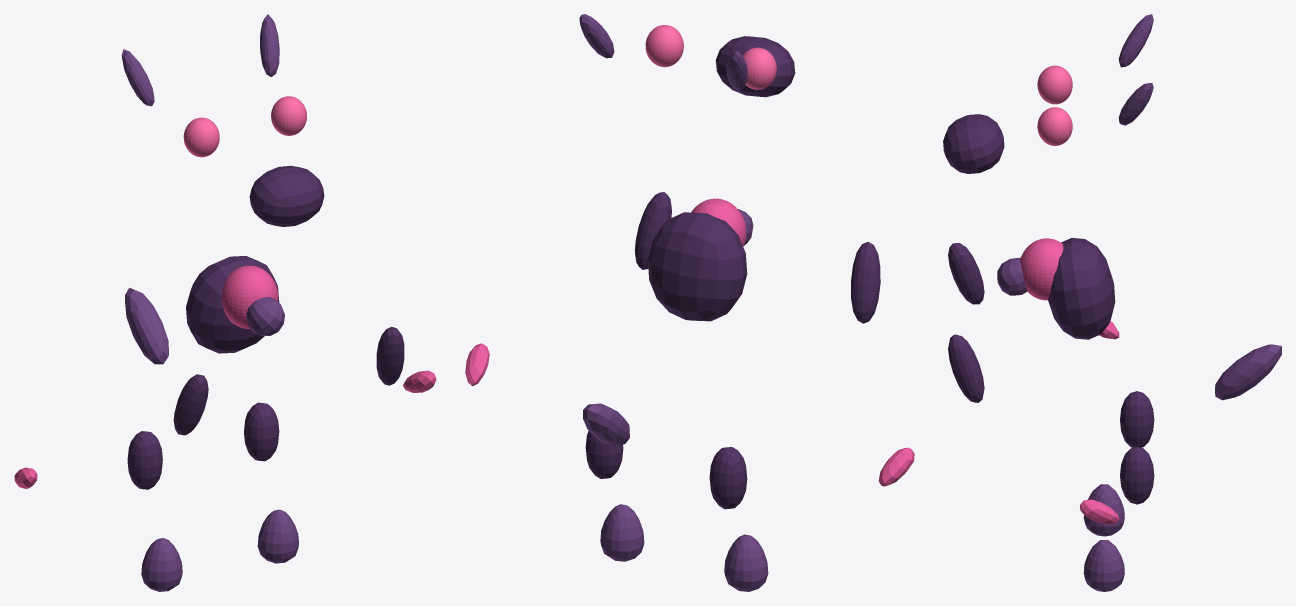
The model's file is SM_LW_ShadowImp.fbx.
3 renders of one model, left to right at view 1: azimuth 30°, elevation 25°; view 2: azimuth 150°, elevation 25°; view 3: azimuth 270°, elevation 25°, orthographic. The views are drawn at different scales.
Visible parts, largest first — view 1: SM_LW_ShadowImp_Torso, SM_LW_ShadowImp_Head, SM_LW_ShadowImp_TellOrb, SM_LW_ShadowImp_Tail, SM_LW_ShadowImp_Foot_R, SM_LW_ShadowImp_Foot_L, SM_LW_ShadowImp_Leg_L, SM_LW_ShadowImp_Leg_R, SM_LW_ShadowImp_Arm_R, SM_LW_ShadowImp_Arm_L, SM_LW_ShadowImp_ChestSpike, SM_LW_ShadowImp_Eye_R (+4 smaller); view 2: SM_LW_ShadowImp_Torso, SM_LW_ShadowImp_Head, SM_LW_ShadowImp_Foot_R, SM_LW_ShadowImp_Foot_L, SM_LW_ShadowImp_Arm_R, SM_LW_ShadowImp_Leg_R, SM_LW_ShadowImp_Arm_L, SM_LW_ShadowImp_Tail, SM_LW_ShadowImp_Eye_L, SM_LW_ShadowImp_Leg_L, SM_LW_ShadowImp_Eye_R, SM_LW_ShadowImp_TellOrb (+4 smaller); view 3: SM_LW_ShadowImp_Torso, SM_LW_ShadowImp_Head, SM_LW_ShadowImp_Tail, SM_LW_ShadowImp_TellOrb, SM_LW_ShadowImp_Foot_L, SM_LW_ShadowImp_Arm_L, SM_LW_ShadowImp_Leg_L, SM_LW_ShadowImp_Leg_R, SM_LW_ShadowImp_Arm_R, SM_LW_ShadowImp_Eye_R, SM_LW_ShadowImp_Foot_R, SM_LW_ShadowImp_Eye_L (+4 smaller).
Boxes of the visible parts, x1,y1,x2,y2 form: SM_LW_ShadowImp_Torso: (186,256,279,353); SM_LW_ShadowImp_Head: (249,165,324,226); SM_LW_ShadowImp_TellOrb: (222,265,278,328); SM_LW_ShadowImp_Tail: (125,288,168,364); SM_LW_ShadowImp_Foot_R: (141,538,182,591); SM_LW_ShadowImp_Foot_L: (257,509,298,563); SM_LW_ShadowImp_Leg_L: (244,402,279,461); SM_LW_ShadowImp_Leg_R: (127,431,162,489); SM_LW_ShadowImp_Arm_R: (173,374,208,435); SM_LW_ShadowImp_Arm_L: (376,327,404,385); SM_LW_ShadowImp_ChestSpike: (246,297,284,335); SM_LW_ShadowImp_Eye_R: (183,117,219,157); SM_LW_ShadowImp_Torso: (648,212,747,321); SM_LW_ShadowImp_Head: (715,36,795,97); SM_LW_ShadowImp_Foot_R: (724,534,768,591); SM_LW_ShadowImp_Foot_L: (600,504,644,561); SM_LW_ShadowImp_Arm_R: (851,242,880,323); SM_LW_ShadowImp_Leg_R: (709,447,747,509); SM_LW_ShadowImp_Arm_L: (634,192,671,269); SM_LW_ShadowImp_Tail: (583,403,629,445); SM_LW_ShadowImp_Eye_L: (645,25,683,67); SM_LW_ShadowImp_Leg_L: (585,431,623,478); SM_LW_ShadowImp_Eye_R: (742,47,776,89); SM_LW_ShadowImp_TellOrb: (691,198,746,246); SM_LW_ShadowImp_Torso: (1048,238,1115,339); SM_LW_ShadowImp_Head: (943,114,1004,173); SM_LW_ShadowImp_Tail: (1215,344,1281,400); SM_LW_ShadowImp_TellOrb: (1020,238,1063,300); SM_LW_ShadowImp_Foot_L: (1083,540,1124,591); SM_LW_ShadowImp_Arm_L: (948,334,984,402); SM_LW_ShadowImp_Leg_L: (1120,446,1154,504); SM_LW_ShadowImp_Leg_R: (1120,391,1154,447); SM_LW_ShadowImp_Arm_R: (948,243,984,304); SM_LW_ShadowImp_Eye_R: (1037,65,1072,104); SM_LW_ShadowImp_Foot_R: (1083,484,1124,536); SM_LW_ShadowImp_Eye_L: (1037,107,1072,145).
Size of the model in its own units: 0.57 by 0.413 by 0.6908.
